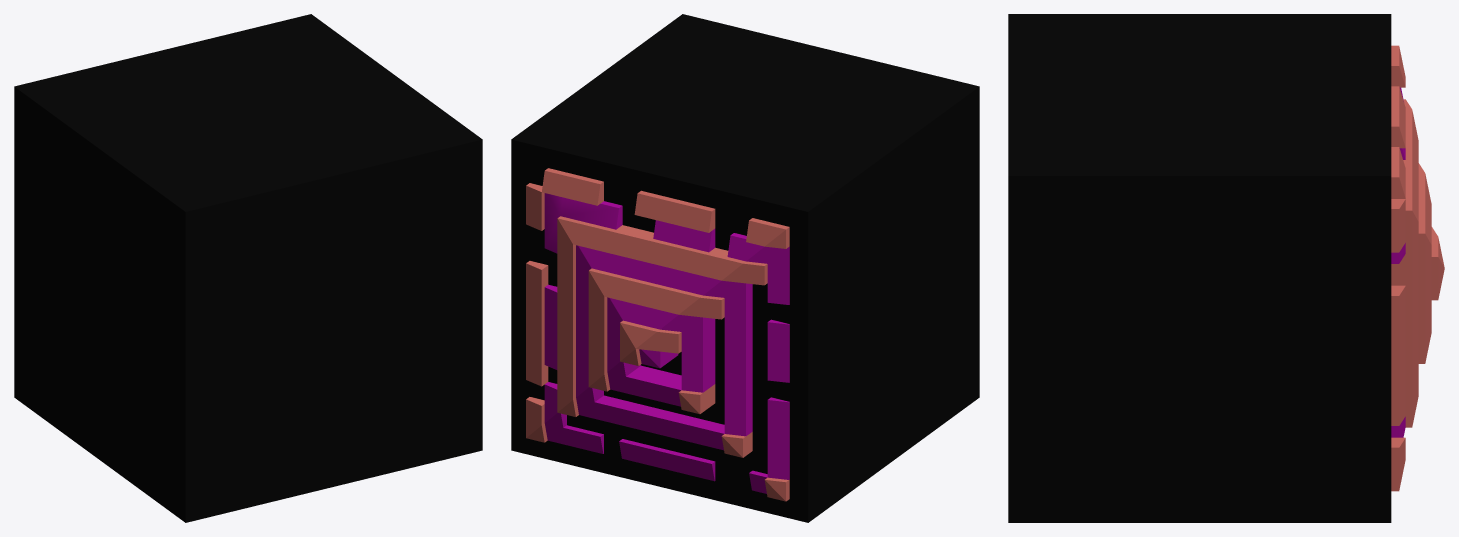
Rendered from br-m-spiral-purple.fbx.
The picture shows the model from 3 angles, left to right: view 1: azimuth 30°, elevation 25°; view 2: azimuth 150°, elevation 25°; view 3: azimuth 270°, elevation 25°; orthographic projection. The views are drawn at different scales.
Visible parts, largest first — view 1: block; view 2: block, shade, highlight; view 3: block, highlight.
Part boxes in pixels (x1,y1,x2,y2): block: [14, 14, 482, 522]; block: [511, 14, 979, 522]; shade: [544, 193, 789, 493]; highlight: [526, 168, 789, 501]; block: [1008, 14, 1391, 522]; highlight: [1391, 45, 1444, 491].
Bounding box in the file's own units: 1 × 1 × 1.14.
